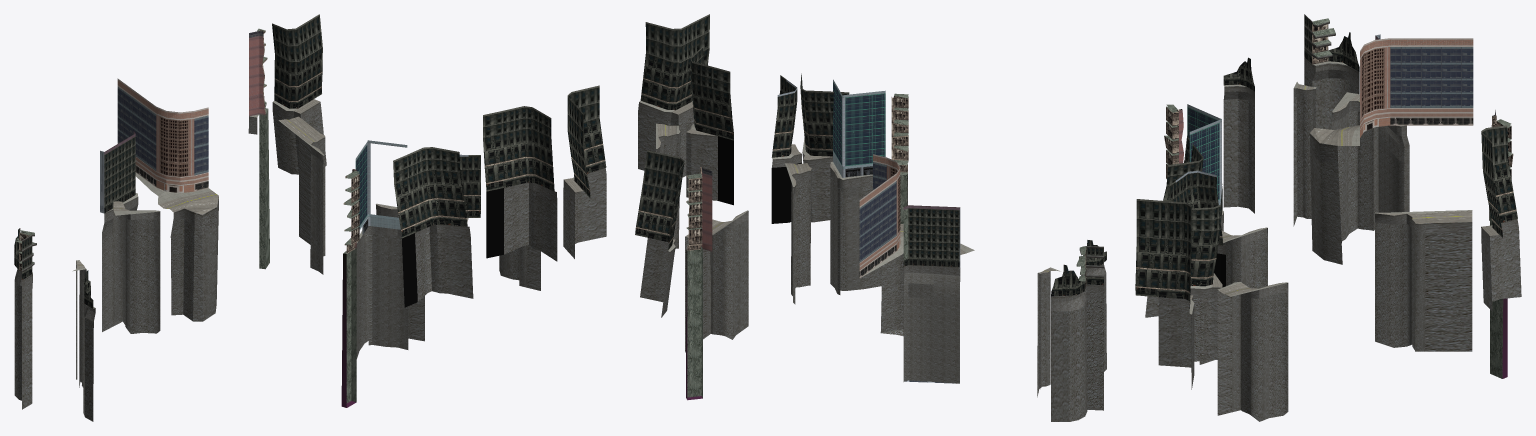
Rendered from STG0100_O_04.fbx.
3 renders of one model, left to right at view 1: azimuth 30°, elevation 25°; view 2: azimuth 150°, elevation 25°; view 3: azimuth 270°, elevation 25°, orthographic. The views are drawn at different scales.
Visible parts, largest first — view 1: STG0100_O_04_default; view 2: STG0100_O_04_default; view 3: STG0100_O_04_default.
Boxes of the visible parts, bbox=[...] form: STG0100_O_04_default: bbox=[14, 14, 606, 421]; STG0100_O_04_default: bbox=[635, 14, 1106, 421]; STG0100_O_04_default: bbox=[1135, 14, 1521, 421].
Size of the model in its own units: 4812 by 2210 by 2792.
